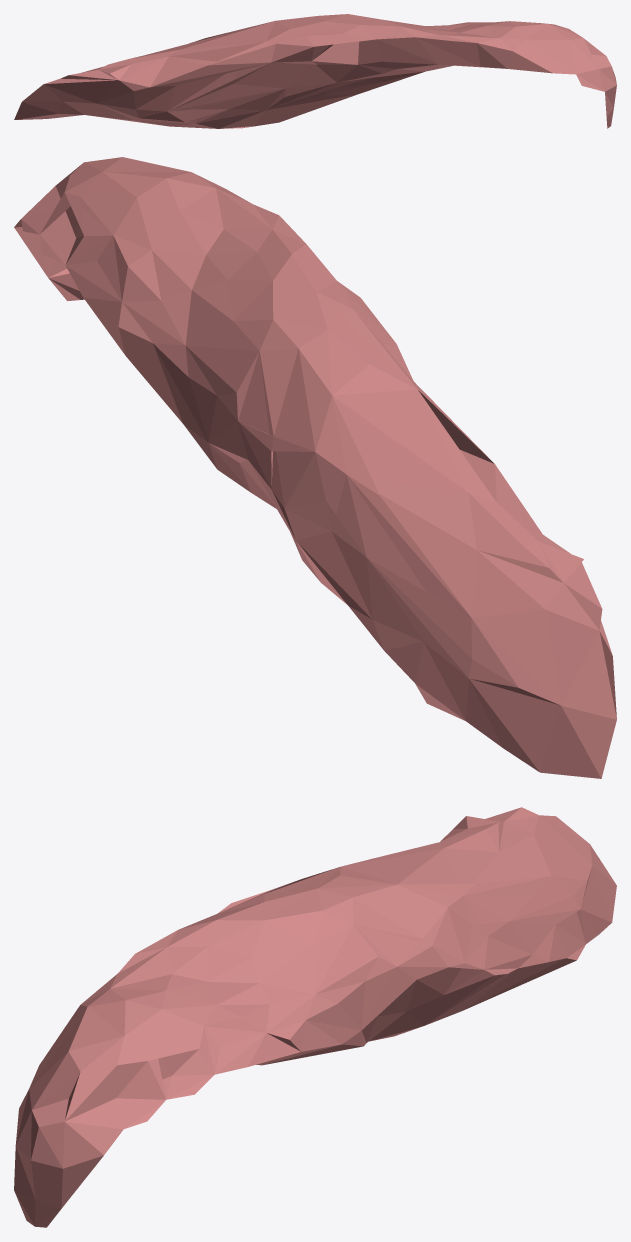
Rendered from Supraspinatus_muscle.l.glb.
The picture shows the model from 3 angles, top to bottom: view 1: azimuth 30°, elevation 25°; view 2: azimuth 150°, elevation 25°; view 3: azimuth 270°, elevation 25°; orthographic projection. The views are drawn at different scales.
Parts seen in each view (by area): view 1: Supraspinatus_muscle.l; view 2: Supraspinatus_muscle.l; view 3: Supraspinatus_muscle.l.
Boxes of the visible parts, x1,y1,x2,y2 form: Supraspinatus_muscle.l: (14,14,616,128); Supraspinatus_muscle.l: (14,157,616,778); Supraspinatus_muscle.l: (14,807,616,1227).
Bounding box in the file's own units: 0.1211 × 0.0308 × 0.0825.
